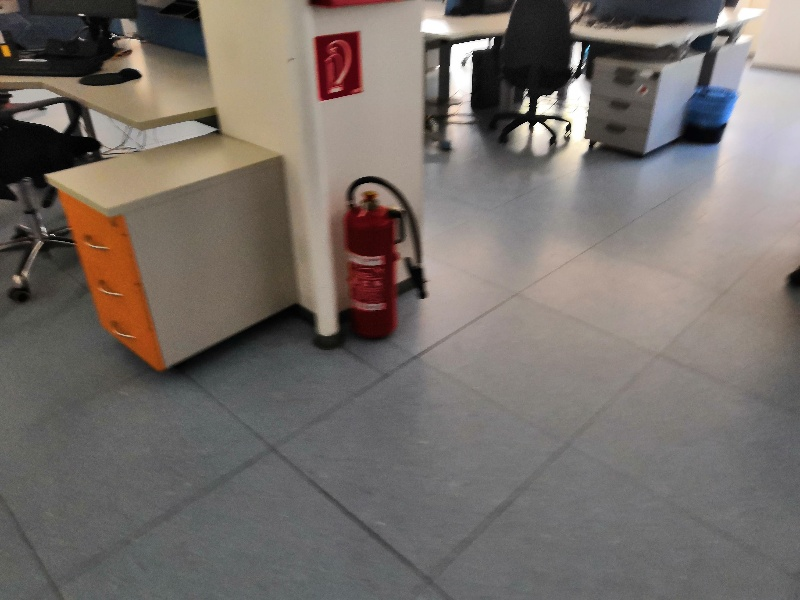vataparat: (342, 176, 428, 340)
